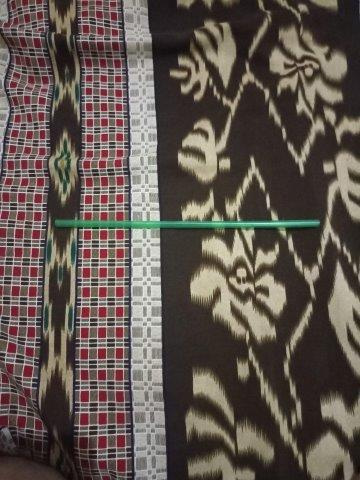sedotan: (55, 219, 319, 228)
